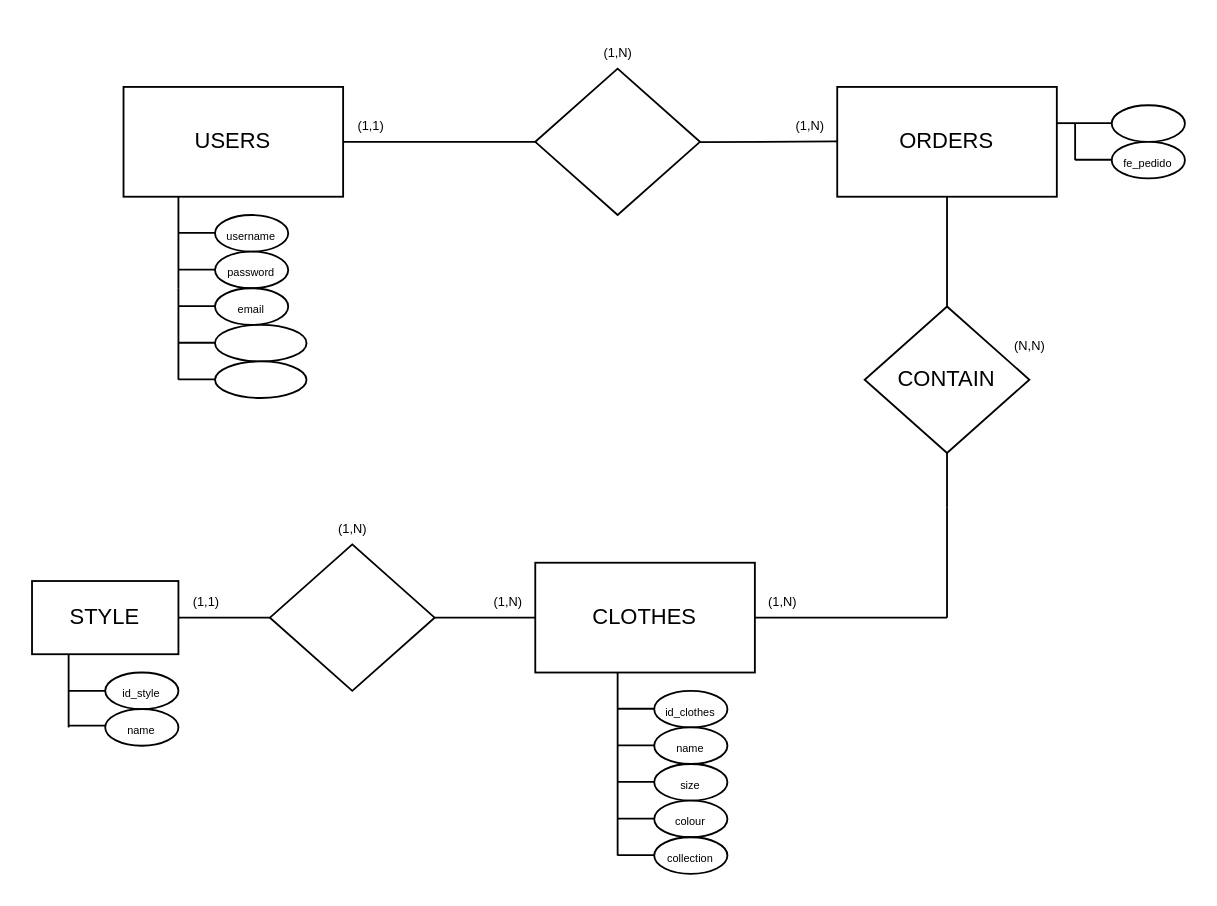
Image size: 1217x906. Some labels were removed from this diagram. Here are the shapes that lost their labels. From the top down, the centre of each, then its label:
At point 616,141: "MAKE".
At point 1147,122: "id_pedido".
At point 260,342: "phone number".
At point 260,379: "adress".
At point 351,617: "HAVE".
